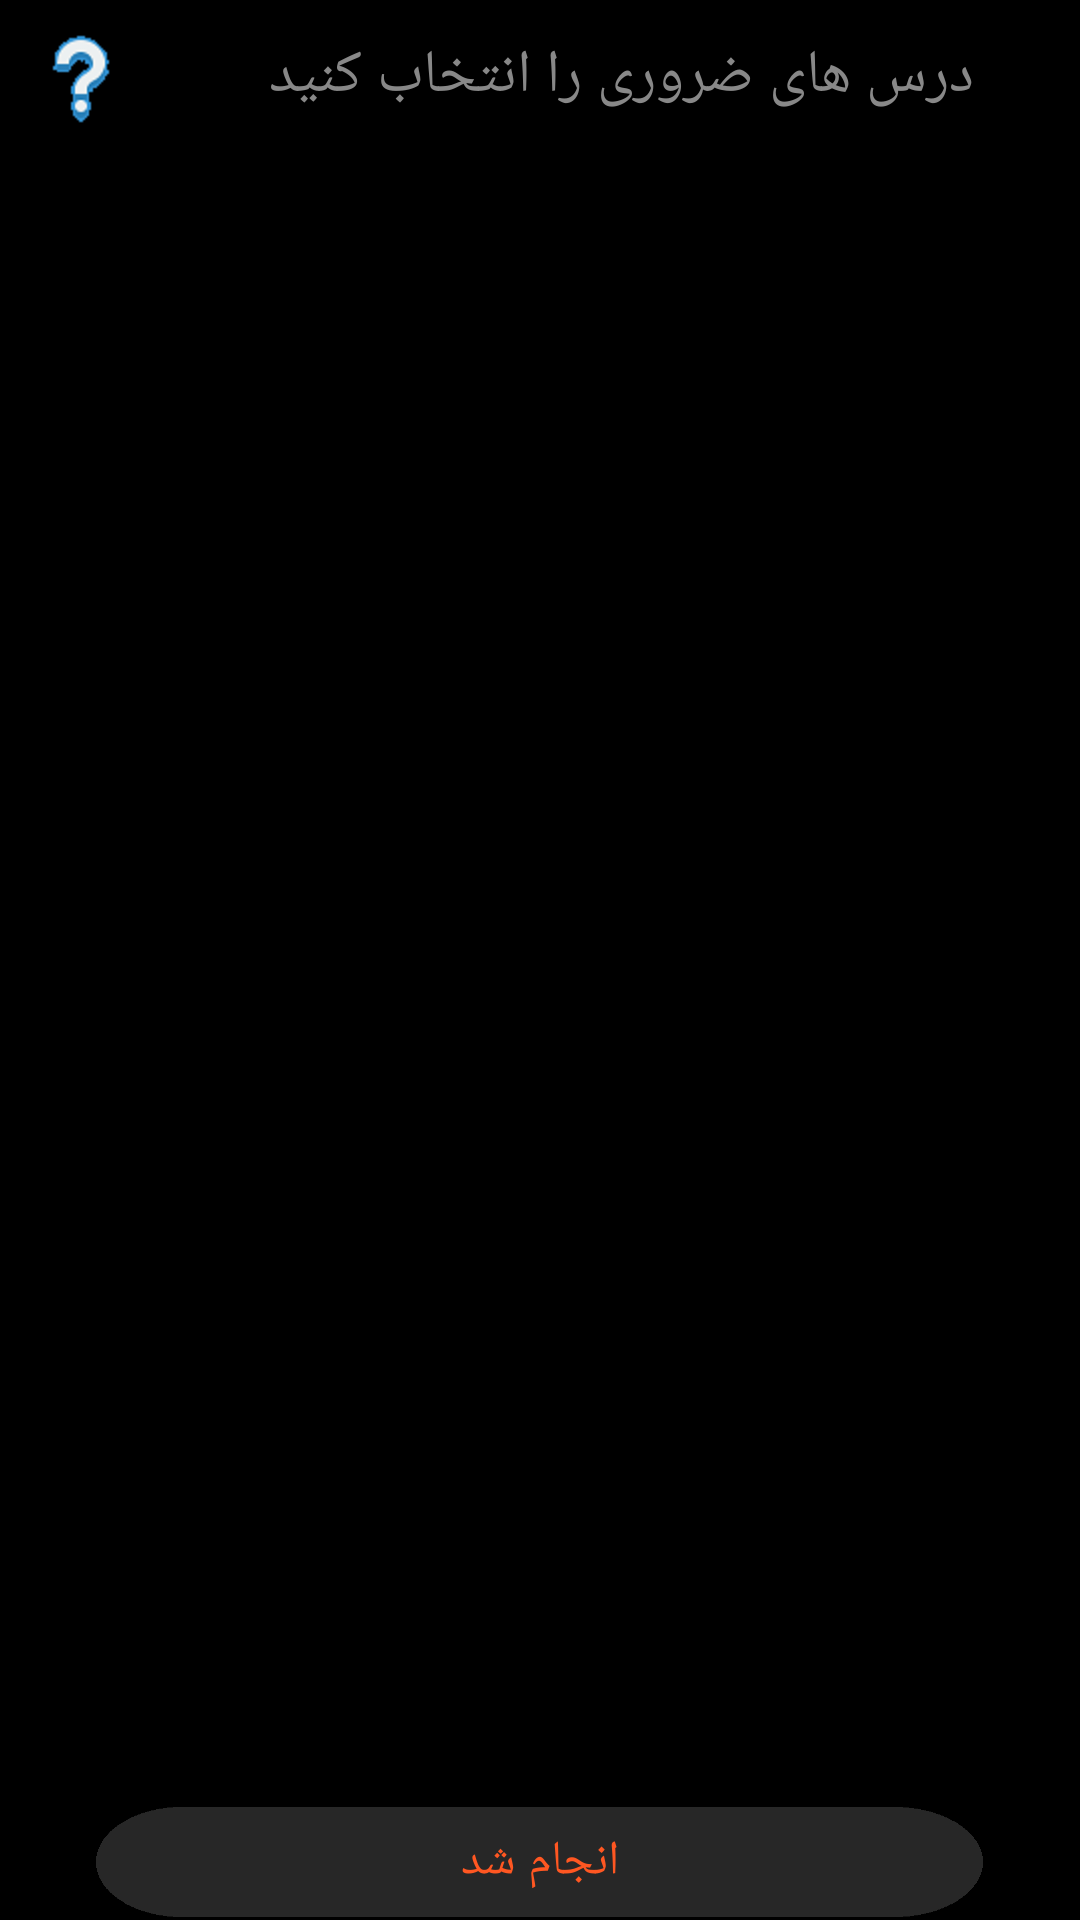

Point at icon controls on the screen. Image size 1080w x 1920h, points as (x,y).
questionicon: (81,79)
